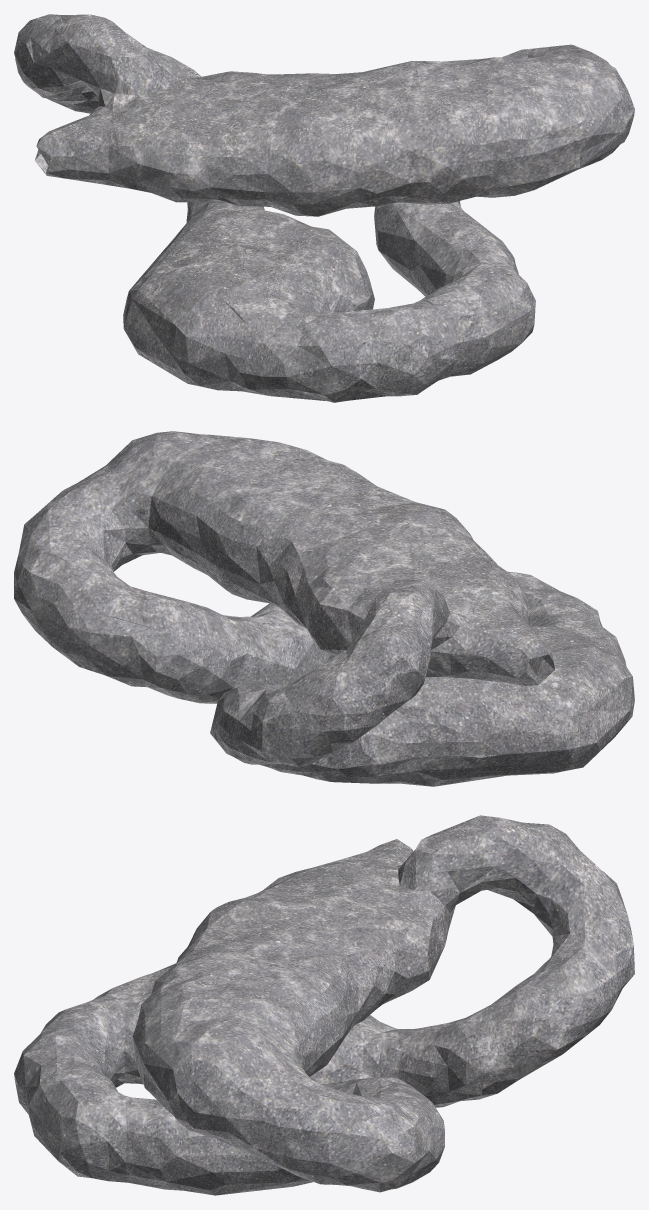
The model's file is Cave1.obj.
3 renders of one model, top to bottom at view 1: azimuth 30°, elevation 25°; view 2: azimuth 150°, elevation 25°; view 3: azimuth 270°, elevation 25°, orthographic. The views are drawn at different scales.
Parts seen in each view (by area): view 1: Mball.095_Mesh; view 2: Mball.095_Mesh; view 3: Mball.095_Mesh.
Part boxes in pixels (x1,y1,x2,y2): Mball.095_Mesh: (14, 14, 634, 402); Mball.095_Mesh: (14, 431, 634, 786); Mball.095_Mesh: (14, 815, 634, 1195).
Bounding box in the file's own units: 128 × 58.19 × 125.
